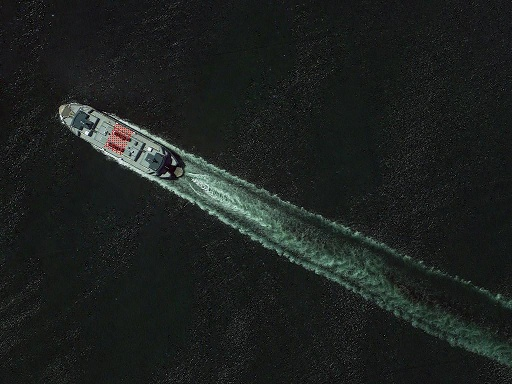ship: (50, 93, 190, 189)
